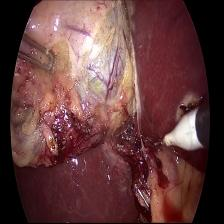Grasper: (18, 29, 53, 79)
Hook: (151, 106, 204, 158)
